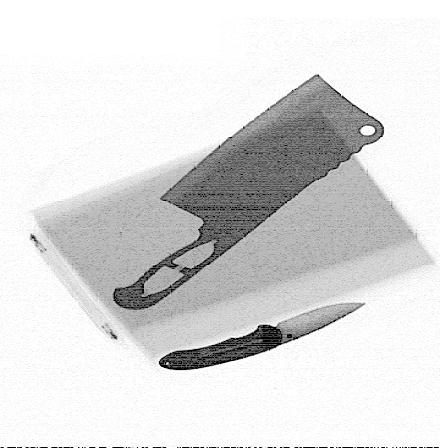Knife: (113, 73, 385, 311), (158, 302, 367, 371)
